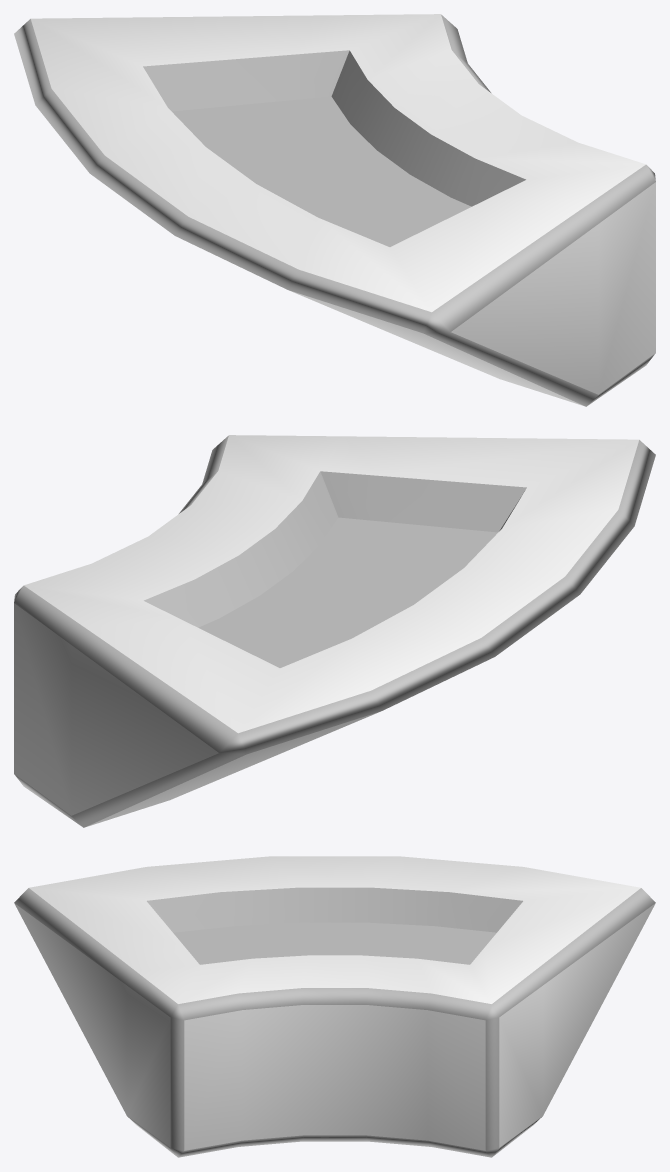
The model's file is Brick_LOD2_30 Deg cutted.fbx.
The picture shows the model from 3 angles, top to bottom: view 1: azimuth 30°, elevation 25°; view 2: azimuth 150°, elevation 25°; view 3: azimuth 270°, elevation 25°; orthographic projection. The views are drawn at different scales.
Parts seen in each view (by area): view 1: Brick_LOD2_30_Deg; view 2: Brick_LOD2_30_Deg; view 3: Brick_LOD2_30_Deg.
Part boxes in pixels (x1=…): Brick_LOD2_30_Deg: x1=14, y1=14, x2=655, y2=406; Brick_LOD2_30_Deg: x1=14, y1=435, x2=655, y2=827; Brick_LOD2_30_Deg: x1=14, y1=856, x2=655, y2=1157.
Size of the model in its own units: 1.1 by 0.5 by 1.89.
Materials: 1 (1 with a texture image).
